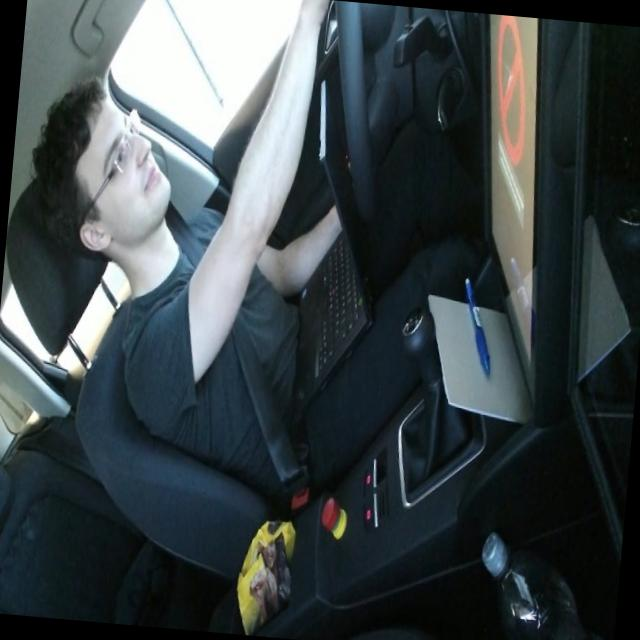pen: (455, 273, 498, 376)
